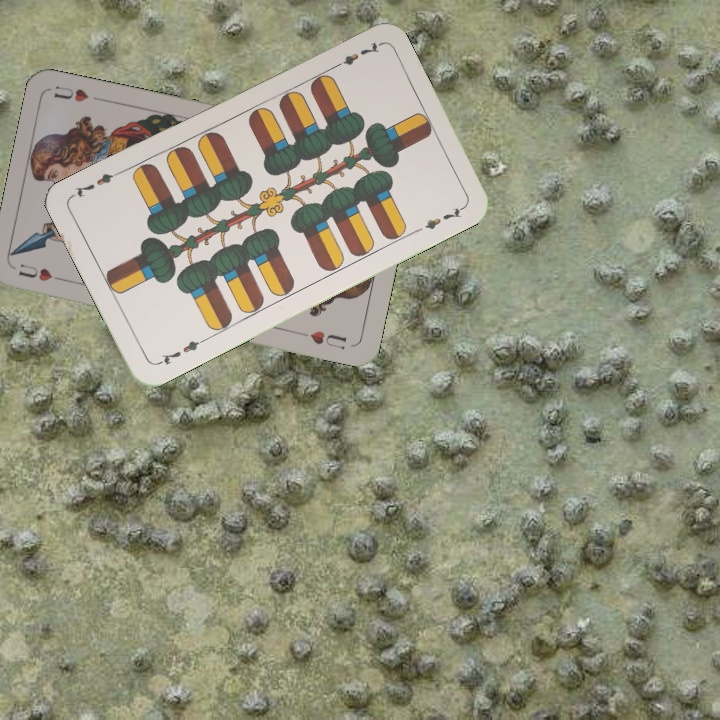E7: (153, 334, 208, 368), (327, 38, 382, 72)
HU: (15, 260, 71, 285)
